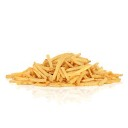frenchfries: (4, 47, 126, 91)
